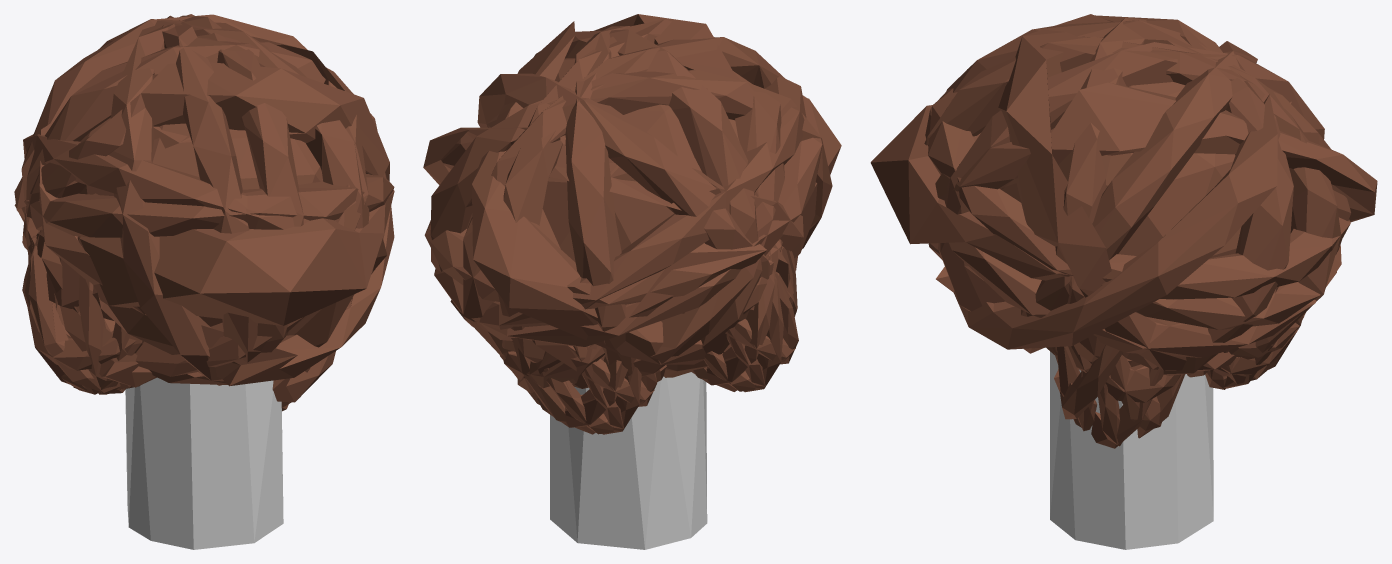
Rendered from voorjaarskluifzwam.fbx.
The picture shows the model from 3 angles, left to right: view 1: azimuth 30°, elevation 25°; view 2: azimuth 150°, elevation 25°; view 3: azimuth 270°, elevation 25°; orthographic projection.
Parts seen in each view (by area): view 1: Torus.000, Cylinder, Torus.002, Icosphere, Torus.001; view 2: Torus.000, Cylinder, Torus.003, Torus.002, Icosphere; view 3: Torus.000, Cylinder, Torus.001, Icosphere, Torus.003.
Boxes of the visible parts, left/top/right/bottom form: Torus.000: left=14, top=14, right=394, bottom=386; Cylinder: left=125, top=377, right=283, bottom=549; Torus.002: left=22, top=229, right=156, bottom=394; Icosphere: left=80, top=117, right=323, bottom=326; Torus.001: left=272, top=351, right=335, bottom=411; Torus.000: left=423, top=14, right=841, bottom=388; Cylinder: left=550, top=372, right=707, bottom=549; Torus.003: left=500, top=340, right=657, bottom=434; Torus.002: left=692, top=239, right=798, bottom=392; Icosphere: left=542, top=58, right=739, bottom=262; Torus.000: left=870, top=14, right=1377, bottom=375; Cylinder: left=1050, top=351, right=1213, bottom=549; Torus.001: left=1053, top=345, right=1185, bottom=448; Icosphere: left=1002, top=82, right=1241, bottom=318; Torus.003: left=1187, top=312, right=1305, bottom=389.
Bounding box in the file's own units: 251 × 332 × 315.
